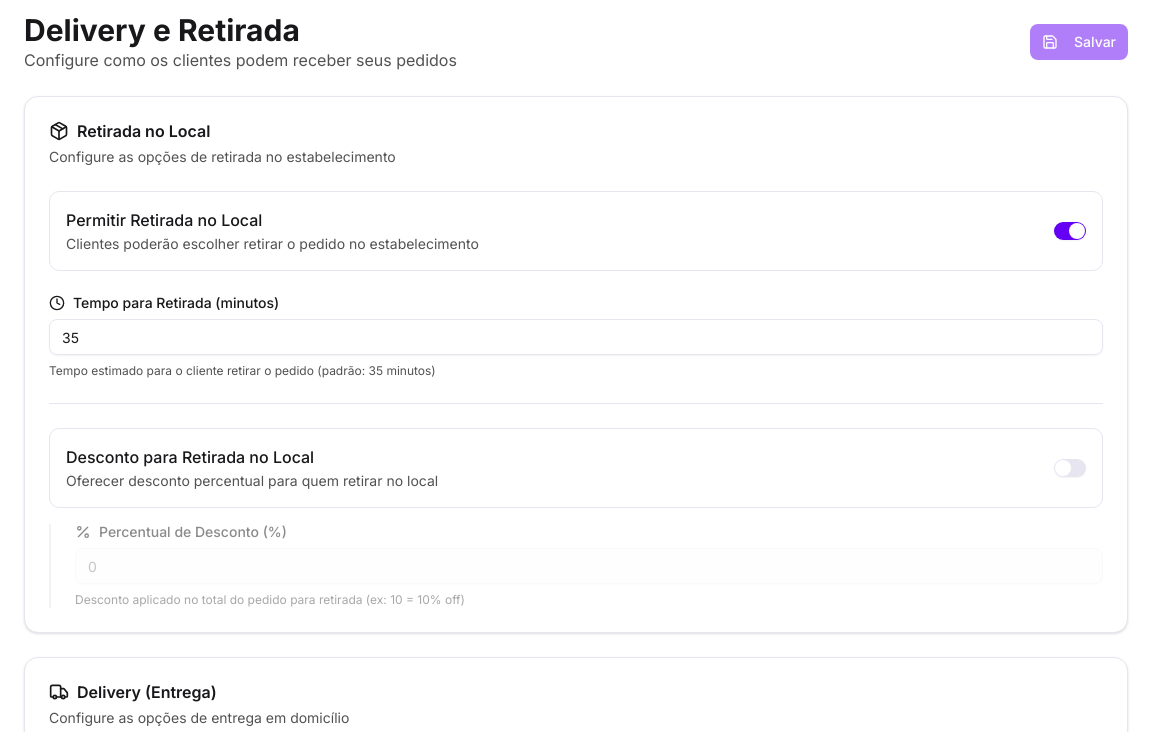
Test case: DeliverySettingsPage - Configurações de Delivery e Retirada › should show discount field when pickup discount is enabled
Expected: the heading "Delivery e Retirada" is shown, x1=24 y1=12 x2=300 y2=48
Habilitar desconto
Click the switch named "Desconto para Retirada" in the row of "Desconto para Retirada no Local".
click(1070, 468)  # box x1=1054 y1=459 x2=1086 y2=477
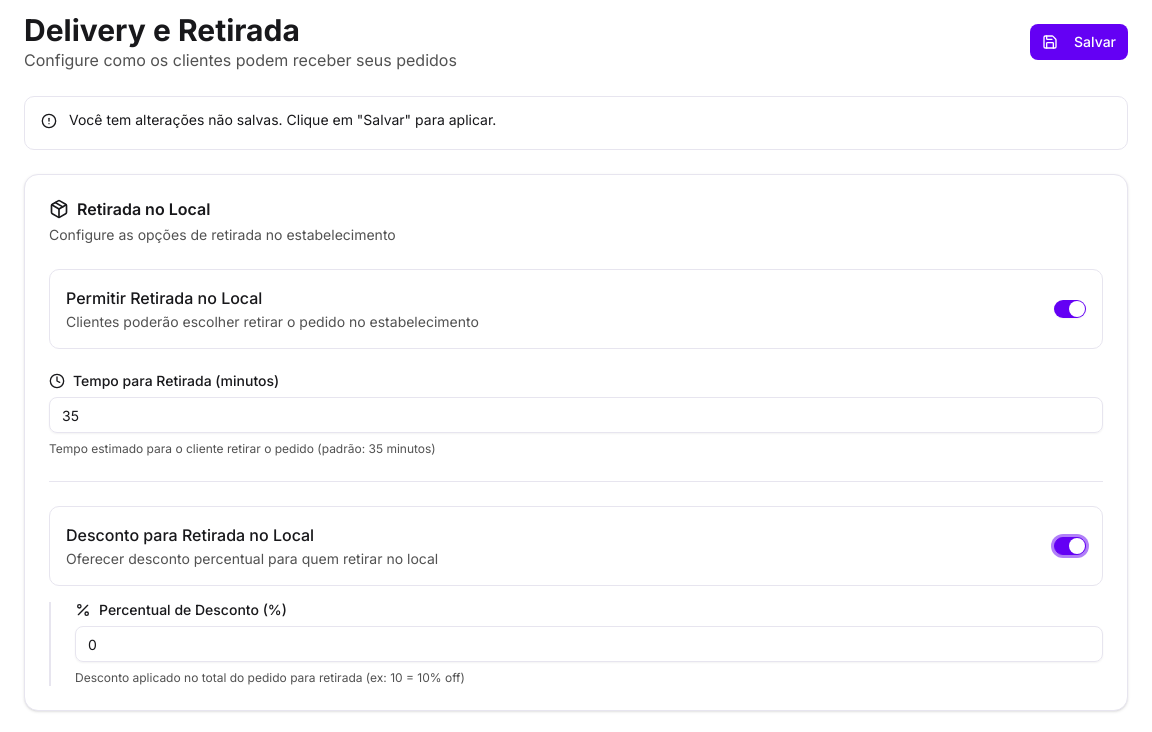
Expected: the number field labelled "Percentual de Desconto (%)" is enabled, x1=75 y1=626 x2=1103 y2=662
